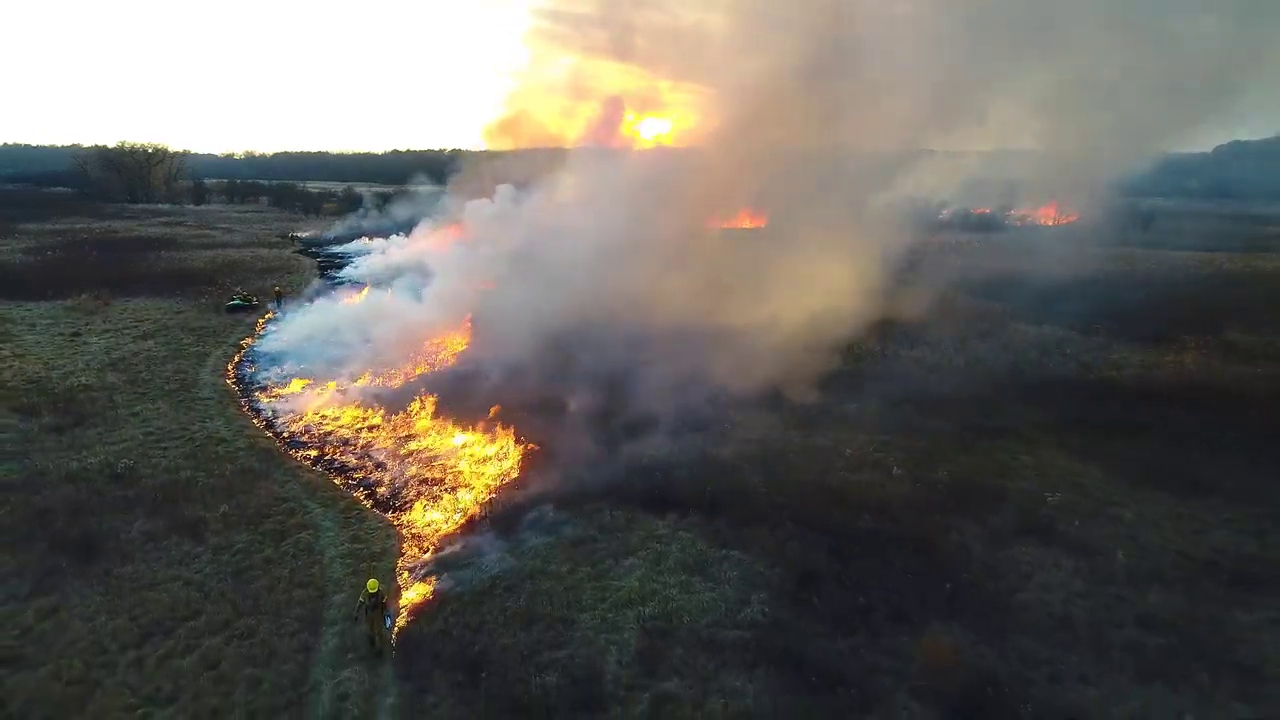forest_fire: (228, 312, 534, 639), (1005, 203, 1077, 225), (711, 210, 767, 229), (337, 287, 371, 306)
